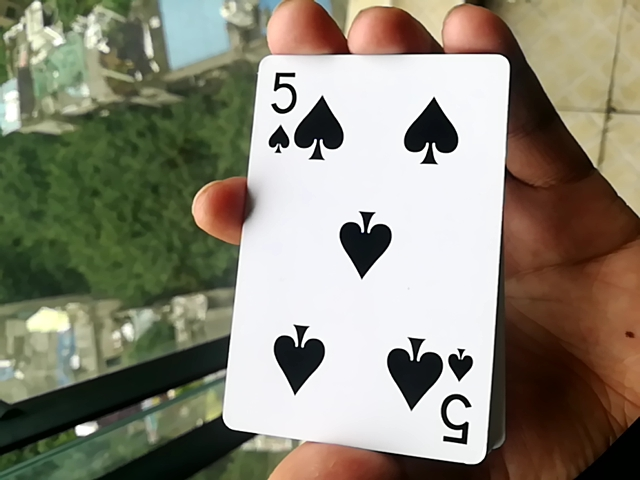ht 5: (217, 45, 506, 460)
